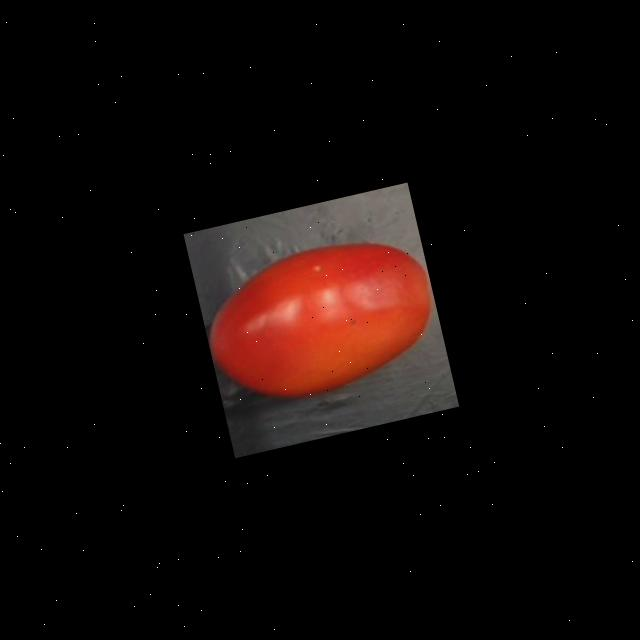tomato: (192, 219, 449, 423)
